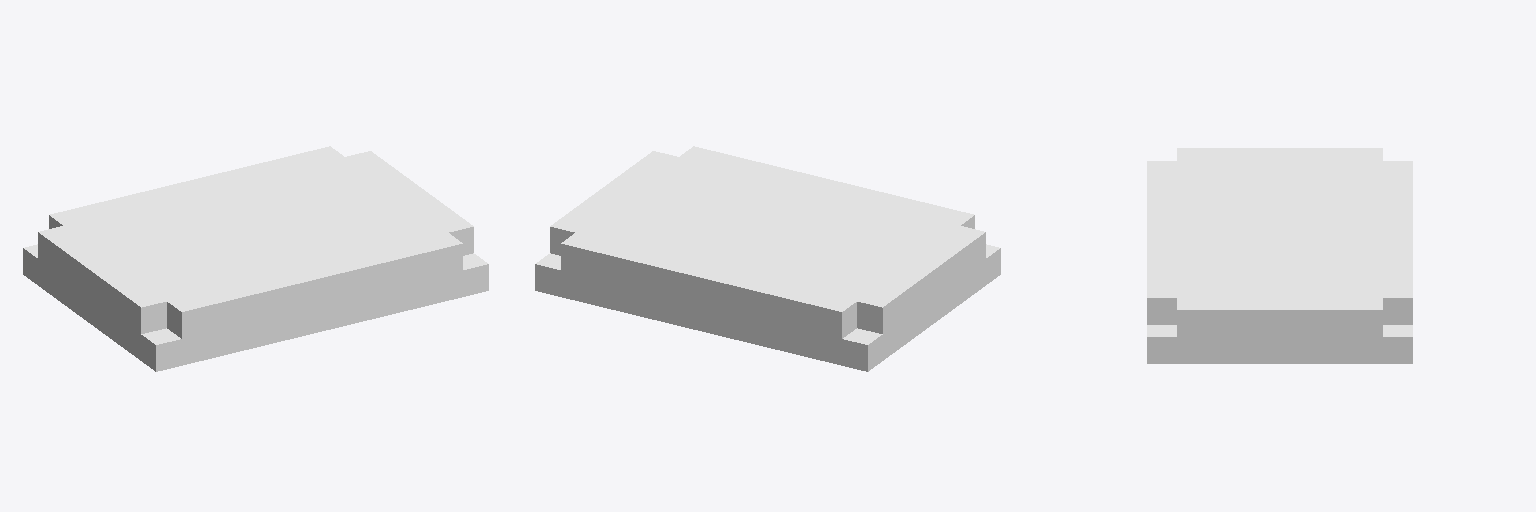
File: F_PhotoboxLid.obj
3 views of the same model, side by side, from view 1: azimuth 30°, elevation 25°; view 2: azimuth 150°, elevation 25°; view 3: azimuth 270°, elevation 25° (orthographic).
Visible parts, largest first — view 1: F_PhotoboxLid; view 2: F_PhotoboxLid; view 3: F_PhotoboxLid.
Boxes of the visible parts, box(x1,y1,x2,y2) form: F_PhotoboxLid: box(23, 146, 488, 371); F_PhotoboxLid: box(535, 146, 1000, 371); F_PhotoboxLid: box(1147, 148, 1412, 363).
Bounding box in the file's own units: 1.3 × 0.2 × 0.9.